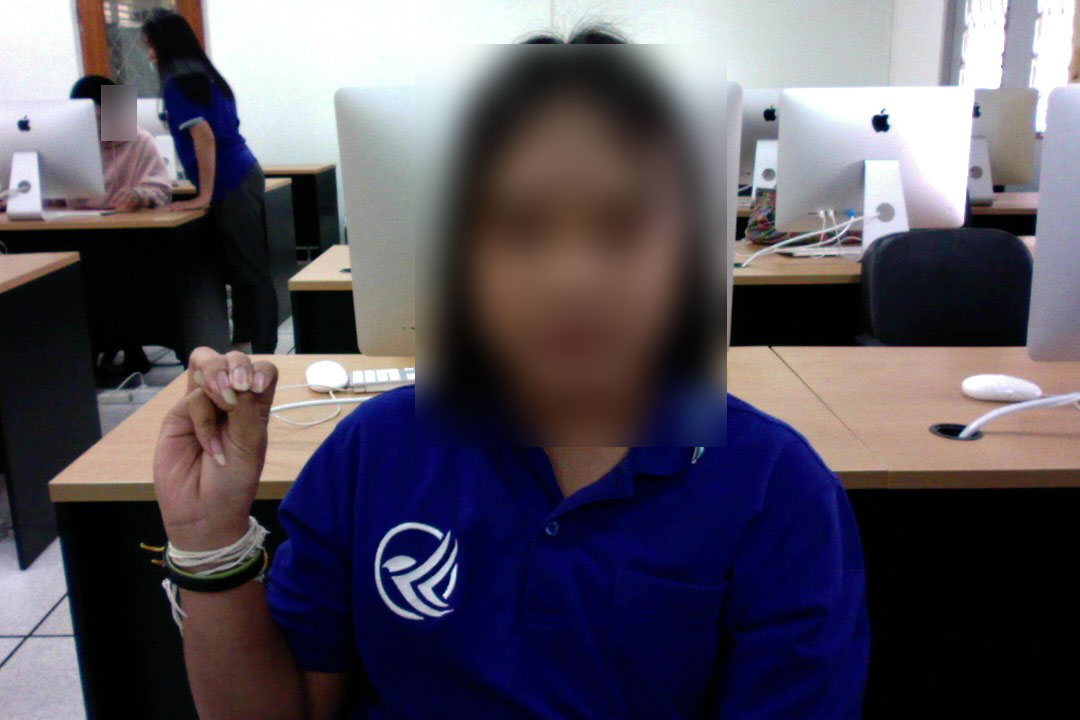mor: (150, 340, 282, 555)
